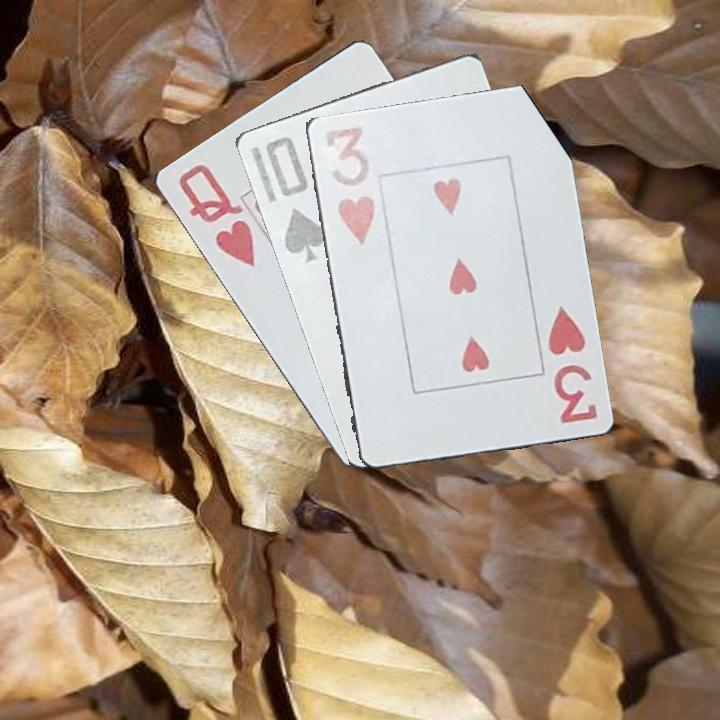3h: (543, 302, 603, 426), (319, 123, 378, 247)
Qh: (171, 157, 258, 269)
Ts: (261, 132, 329, 266)
